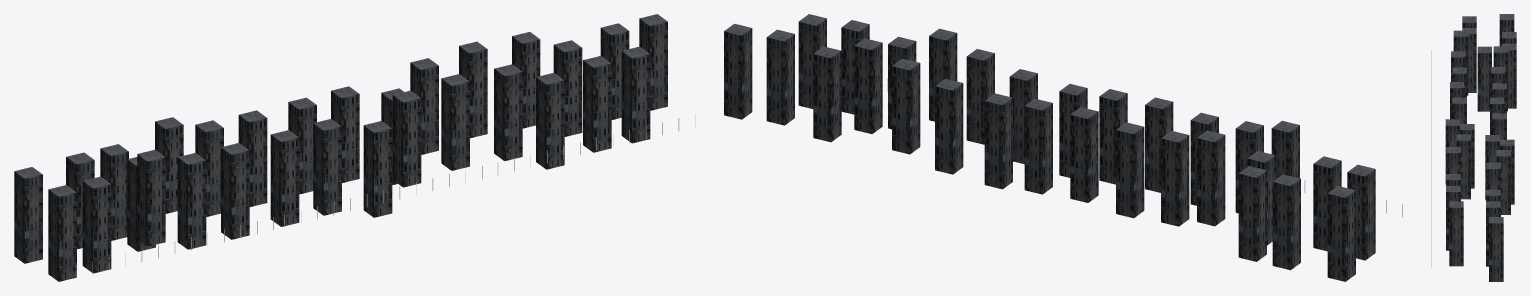
The model's file is Entorno.fbx.
3 views of the same model, side by side, from view 1: azimuth 30°, elevation 25°; view 2: azimuth 150°, elevation 25°; view 3: azimuth 270°, elevation 25° (orthographic). The views are drawn at different scales.
Parts seen in each view (by area): view 1: Cube.002, Cube.012, Cube.007, Cube.031, Cube.010, Cube.008, Cube.004, Cube.011, Cube.013, Cube.014, Cube.005, Cube.006 (+18 smaller); view 2: Cube.027, Cube.021, Cube.023, Cube.025, Cube.014, Cube.046, Cube.019, Cube.024, Cube.026, Cube.048, Cube.020, Cube.022 (+18 smaller); view 3: Cube.002, Cube.016, Cube.017, Cube.006, Cube.025, Cube.046, Cube.031, Cube.013, Cube.018, Cube.008, Cube.026, Cube.023 (+21 smaller).
Boxes of the visible parts, x1,y1,x2,y2 form: Cube.002: (621,46,650,143); Cube.012: (177,153,206,249); Cube.007: (392,90,421,187); Cube.031: (82,176,111,273); Cube.010: (270,130,299,226); Cube.008: (363,121,392,217); Cube.004: (536,73,564,169); Cube.011: (221,143,249,239); Cube.013: (137,149,165,246); Cube.014: (14,167,42,263); Cube.005: (494,64,522,161); Cube.006: (441,74,469,170); Cube.027: (813,46,841,142); Cube.021: (1070,107,1098,202); Cube.023: (984,93,1012,189); Cube.025: (892,58,920,154); Cube.014: (1327,186,1355,281); Cube.046: (1238,166,1266,261); Cube.019: (1161,130,1189,226); Cube.024: (935,78,963,174); Cube.026: (854,38,882,133); Cube.048: (1272,174,1300,270); Cube.020: (1116,122,1144,218); Cube.022: (1024,98,1052,194); Cube.002: (1449,201,1463,266); Cube.016: (1489,217,1503,281); Cube.017: (1477,46,1491,111); Cube.006: (1456,134,1470,199); Cube.025: (1496,150,1510,214); Cube.046: (1502,43,1516,108); Cube.031: (1462,28,1476,92); Cube.013: (1453,30,1468,95); Cube.018: (1493,46,1508,111); Cube.008: (1445,119,1459,183); Cube.026: (1486,162,1500,216); Cube.023: (1485,135,1499,199).
Size of the model in its own units: 65258 by 10702 by 10968.
10 materials, 10 textured.
